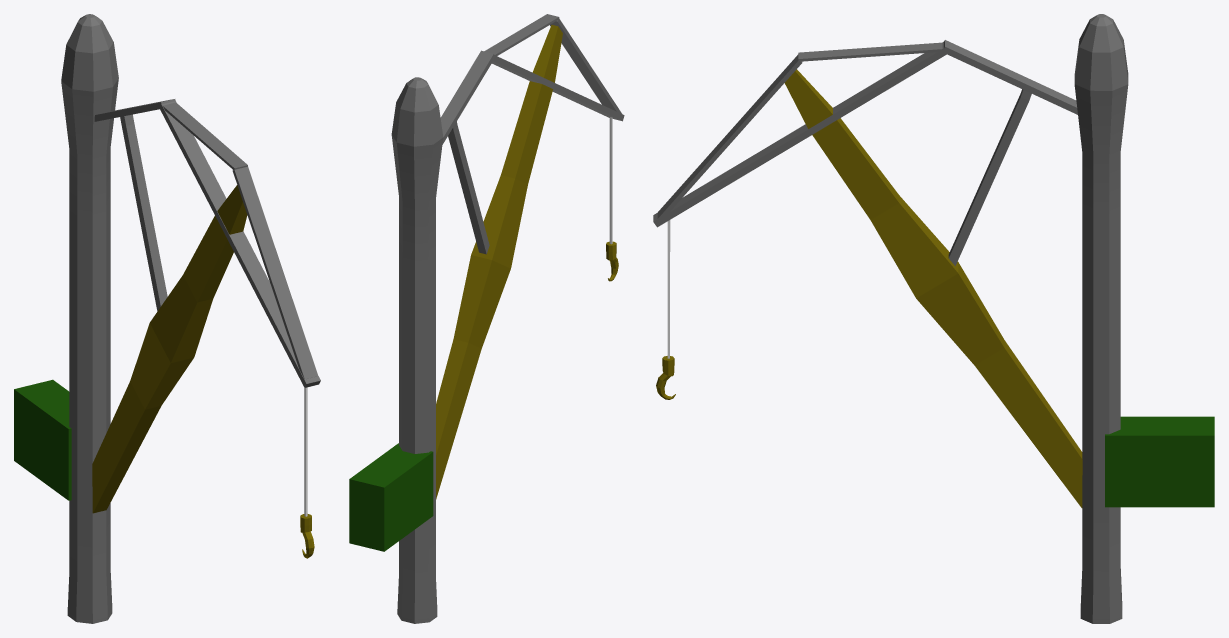
The model's file is Top of the crane.fbx.
3 renders of one model, left to right at view 1: azimuth 30°, elevation 25°; view 2: azimuth 150°, elevation 25°; view 3: azimuth 270°, elevation 25°, orthographic. The views are drawn at different scales.
Parts seen in each view (by area): view 1: Cylinder.002, Cube.006, Cube.005, Cube.007, Cube.010, Cube.008, Cube.011, Cube.009, Cube.012, Cylinder.003; view 2: Cylinder.002, Cube.006, Cube.005, Cube.008, Cube.009, Cube.007, Cube.010, Cube.011, Cube.012; view 3: Cylinder.002, Cube.006, Cube.005, Cube.007, Cube.008, Cube.010, Cube.009, Cube.011.
Boxes of the visible parts, x1=… form: Cylinder.002: x1=61, y1=14, x2=118, y2=623; Cube.006: x1=92, y1=185, x2=247, y2=513; Cube.005: x1=14, y1=379, x2=71, y2=500; Cube.007: x1=159, y1=101, x2=320, y2=387; Cube.010: x1=232, y1=166, x2=318, y2=379; Cube.008: x1=120, y1=114, x2=167, y2=311; Cube.011: x1=163, y1=102, x2=247, y2=169; Cube.009: x1=94, y1=99, x2=175, y2=121; Cube.012: x1=304, y1=387, x2=307, y2=516; Cylinder.003: x1=300, y1=514, x2=314, y2=558; Cylinder.002: x1=391, y1=77, x2=443, y2=623; Cube.006: x1=436, y1=25, x2=562, y2=499; Cube.005: x1=349, y1=443, x2=433, y2=551; Cube.008: x1=448, y1=121, x2=489, y2=254; Cube.009: x1=440, y1=50, x2=494, y2=144; Cube.007: x1=492, y1=55, x2=624, y2=121; Cube.010: x1=550, y1=18, x2=621, y2=113; Cube.011: x1=484, y1=14, x2=559, y2=55; Cube.012: x1=609, y1=117, x2=612, y2=244; Cylinder.002: x1=1074, y1=14, x2=1128, y2=623; Cube.006: x1=784, y1=69, x2=1082, y2=507; Cube.005: x1=1105, y1=416, x2=1214, y2=507; Cube.007: x1=653, y1=41, x2=947, y2=227; Cube.008: x1=948, y1=89, x2=1031, y2=265; Cube.010: x1=657, y1=54, x2=802, y2=218; Cube.009: x1=944, y1=40, x2=1077, y2=114; Cube.011: x1=798, y1=42, x2=942, y2=61.
Bounding box in the file's own units: 39.03 × 478 × 406.
